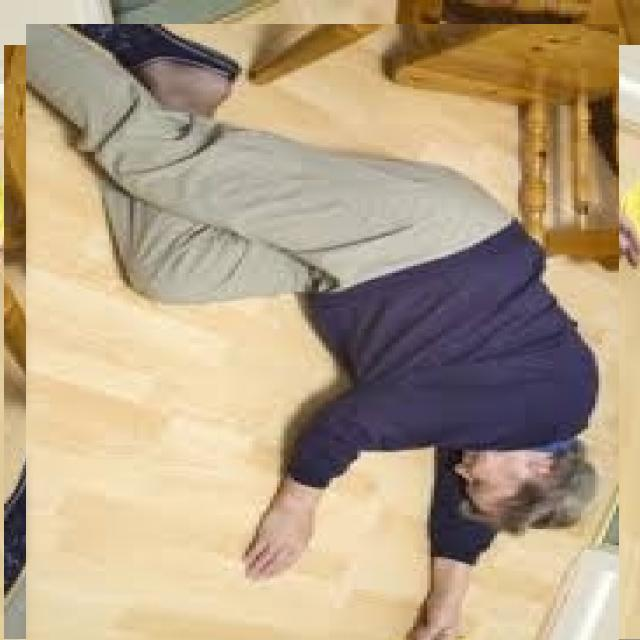Fall: (25, 29, 610, 620)
